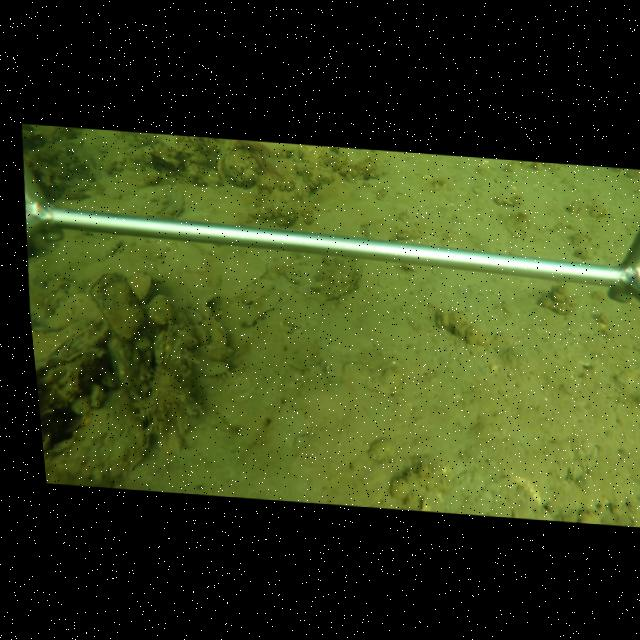Oyster-Closed: (44, 385, 152, 487), (87, 270, 148, 345), (112, 184, 186, 217)
Oyster-Indeterminate: (217, 143, 266, 190), (125, 271, 159, 305)
